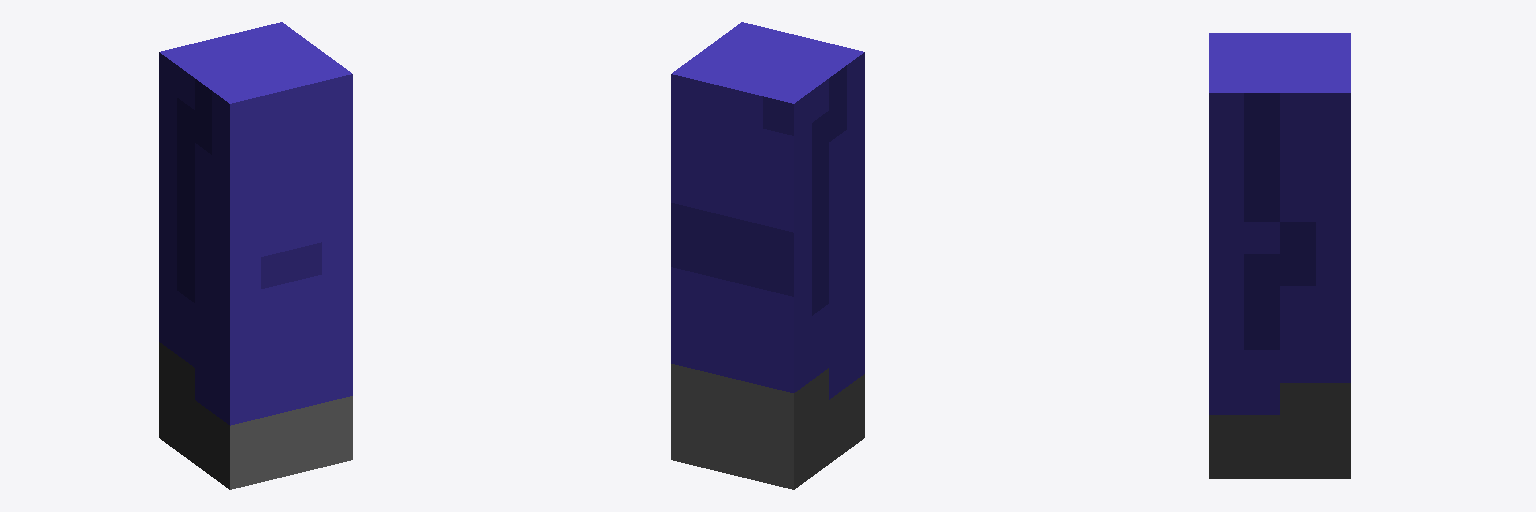
3 renders of one model, left to right at view 1: azimuth 30°, elevation 25°; view 2: azimuth 150°, elevation 25°; view 3: azimuth 270°, elevation 25°, orthographic.
Parts seen in each view (by area): view 1: Cube.005; view 2: Cube.005; view 3: Cube.005.
Part boxes in pixels (x1,y1,x2,y2): Cube.005: (159,22,352,489); Cube.005: (671,22,864,489); Cube.005: (1209,33,1350,478).
Bounding box in the file's own units: 0.25 × 0.75 × 0.25.
1 materials, 1 textured.